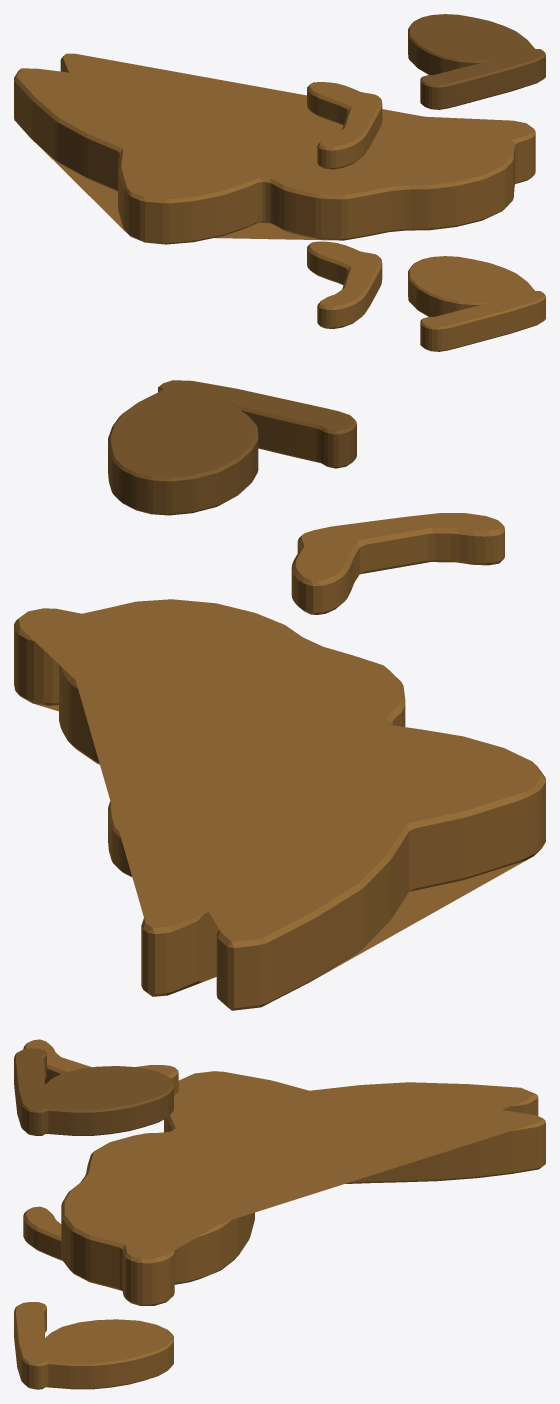
Rendered from rabbit.fbx.
3 renders of one model, top to bottom at view 1: azimuth 30°, elevation 25°; view 2: azimuth 150°, elevation 25°; view 3: azimuth 270°, elevation 25°, orthographic. The views are drawn at different scales.
Parts seen in each view (by area): view 1: main body, hind leg, hind leg.001, front leg.001, front leg; view 2: main body, hind leg, front leg, hind leg.001; view 3: main body, hind leg.001, hind leg, front leg.001, front leg.
Part boxes in pixels (bbox=[...]): main body: bbox=[14, 53, 535, 244]; hind leg: bbox=[408, 14, 545, 109]; hind leg.001: bbox=[408, 256, 545, 351]; front leg.001: bbox=[307, 241, 382, 328]; front leg: bbox=[307, 82, 382, 169]; main body: bbox=[14, 599, 545, 1010]; hind leg: bbox=[108, 380, 356, 515]; front leg: bbox=[291, 513, 504, 614]; hind leg.001: bbox=[108, 801, 131, 876]; main body: bbox=[61, 1071, 545, 1305]; hind leg.001: bbox=[14, 1302, 173, 1389]; hind leg: bbox=[14, 1048, 173, 1135]; front leg.001: bbox=[23, 1206, 62, 1260]; front leg: bbox=[23, 1039, 178, 1095].
Size of the model in its own units: 108 by 73.95 by 128.
